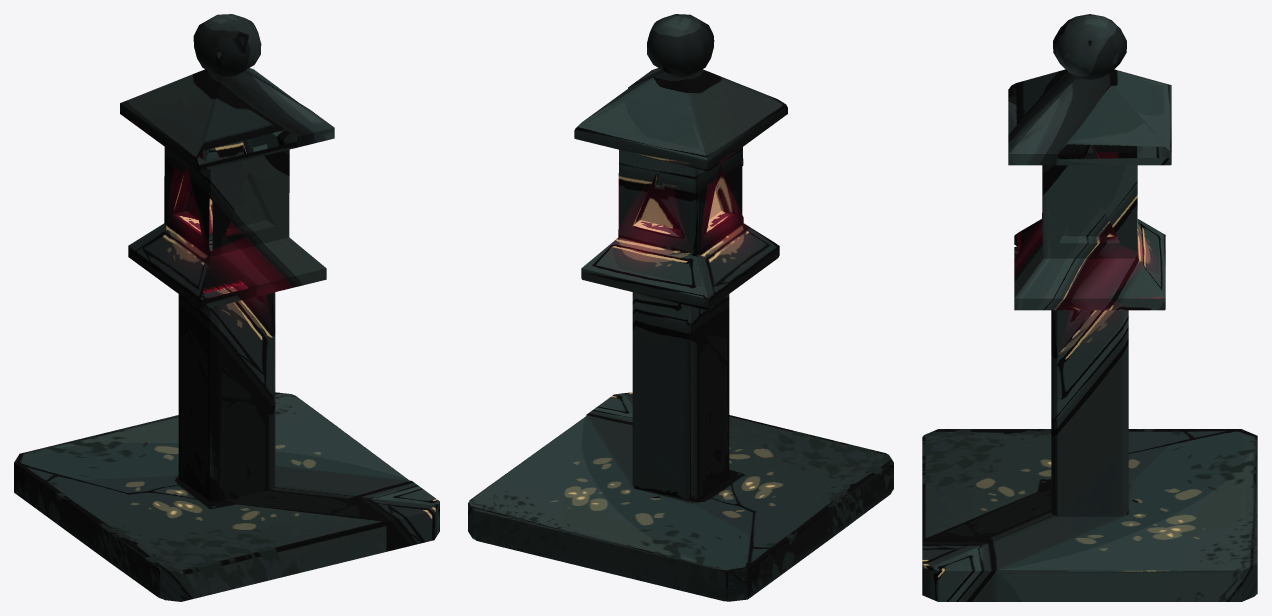
Rendered from lantern_stone.fbx.
3 views of the same model, side by side, from view 1: azimuth 30°, elevation 25°; view 2: azimuth 150°, elevation 25°; view 3: azimuth 270°, elevation 25° (orthographic). The views are drawn at different scales.
Parts seen in each view (by area): view 1: Cube.014; view 2: Cube.014; view 3: Cube.014.
Boxes of the visible parts, x1,y1,x2,y2 form: Cube.014: (14, 14, 439, 601); Cube.014: (468, 14, 893, 601); Cube.014: (922, 14, 1257, 601).
Size of the model in its own units: 305 by 514 by 305.
